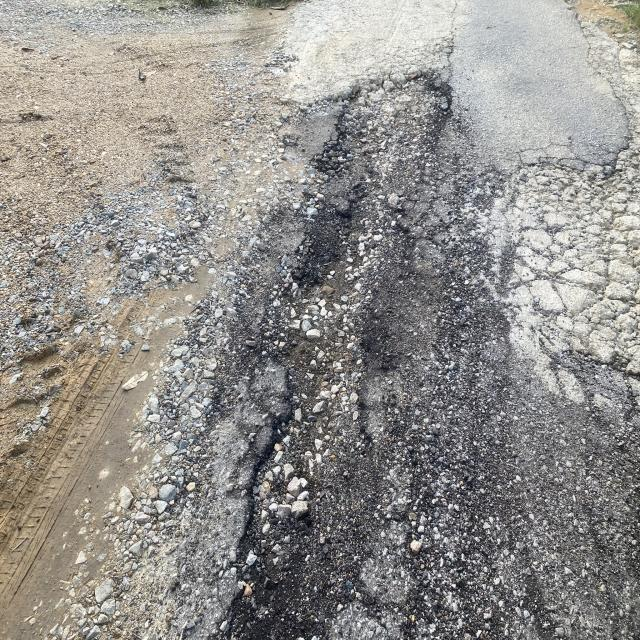Pothole: (217, 339, 406, 640), (284, 61, 458, 332)
